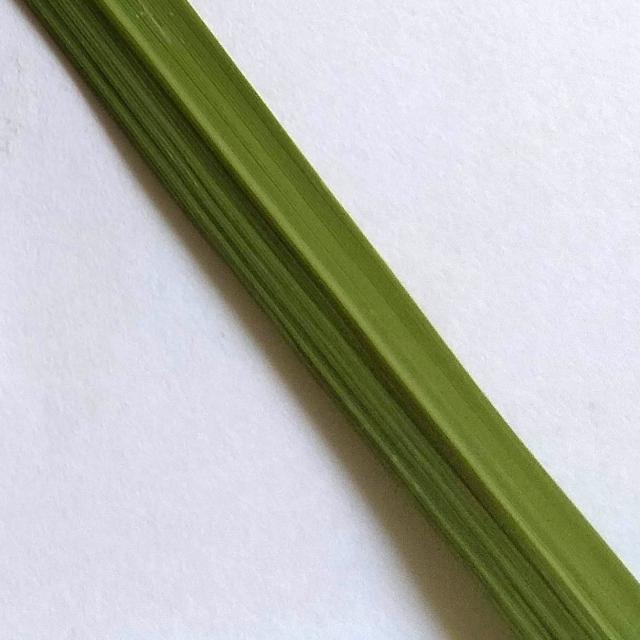Rice_Healthy: (26, 0, 640, 640)
